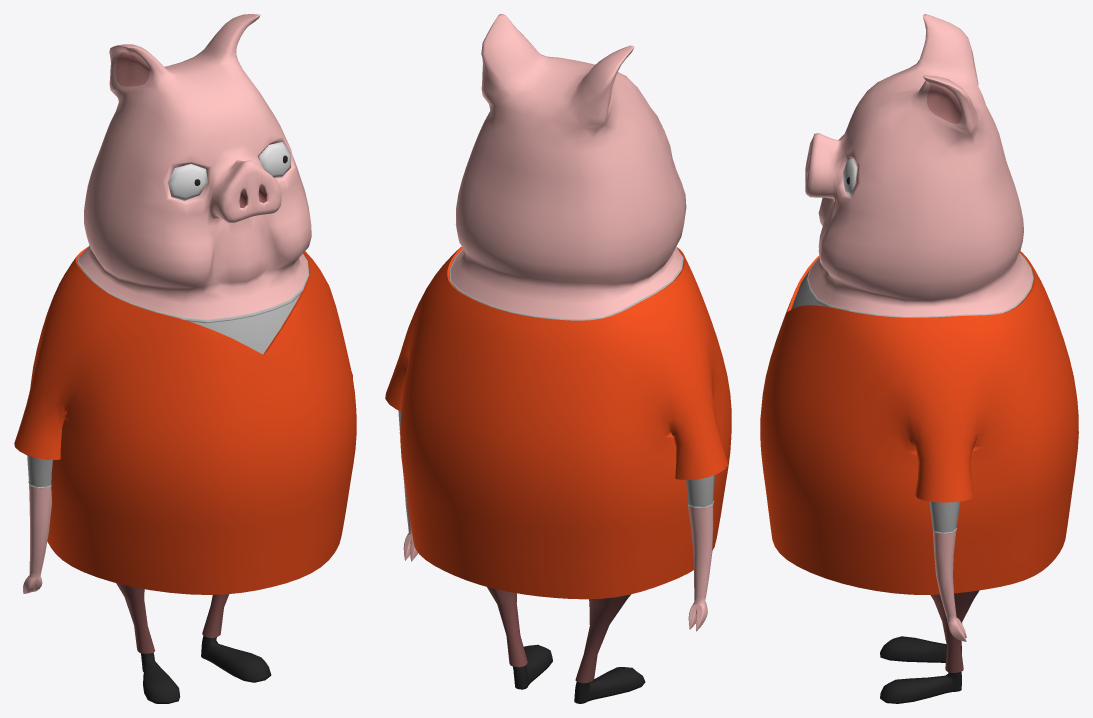
The model's file is CERDO.FBX.
3 renders of one model, left to right at view 1: azimuth 30°, elevation 25°; view 2: azimuth 150°, elevation 25°; view 3: azimuth 270°, elevation 25°, orthographic. The views are drawn at different scales.
Parts seen in each view (by area): view 1: piggy; view 2: piggy; view 3: piggy.
Boxes of the visible parts, bbox=[...] form: piggy: bbox=[14, 14, 356, 703]; piggy: bbox=[385, 14, 731, 703]; piggy: bbox=[760, 14, 1078, 703].
Bounding box in the file's own units: 73.07 × 136 × 62.53.
